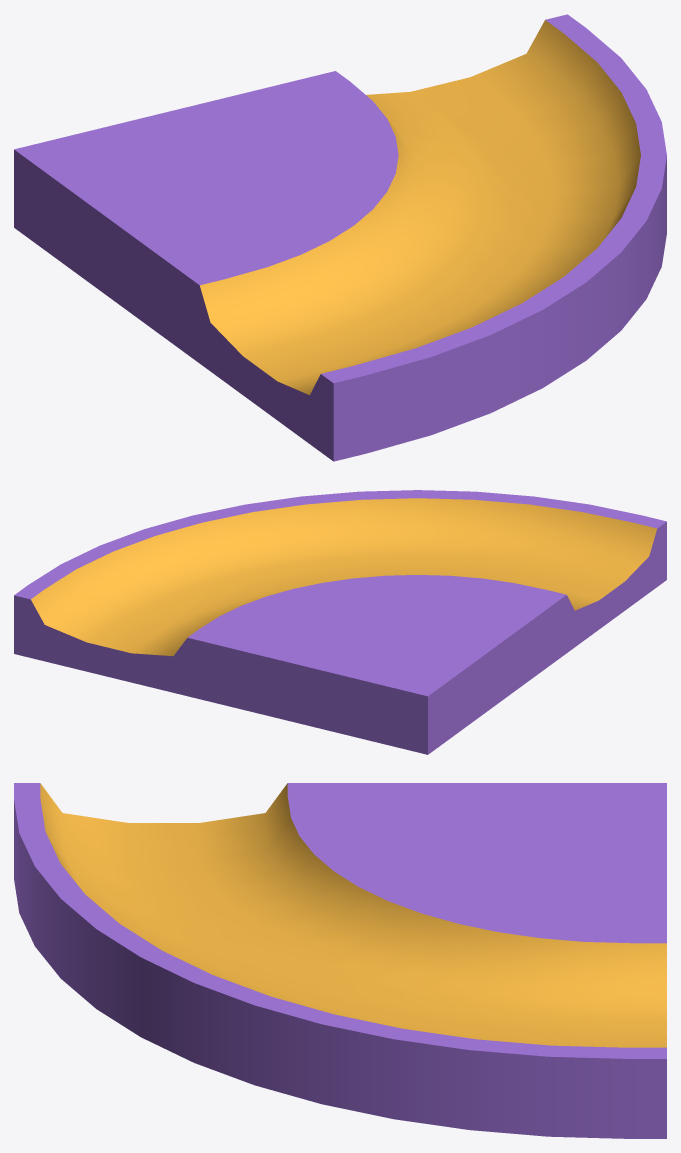
The model's file is curve-wide-solid-large.glb.
3 renders of one model, top to bottom at view 1: azimuth 30°, elevation 25°; view 2: azimuth 150°, elevation 25°; view 3: azimuth 270°, elevation 25°, orthographic. The views are drawn at different scales.
Parts seen in each view (by area): view 1: curve-wide-solid-large; view 2: curve-wide-solid-large; view 3: curve-wide-solid-large.
Part boxes in pixels (x1,y1,x2,y2): curve-wide-solid-large: (14,14,666,461); curve-wide-solid-large: (14,490,666,754); curve-wide-solid-large: (14,783,666,1138).
Bounding box in the file's own units: 3.7 × 0.5 × 3.7.
1 material, 1 textured.
